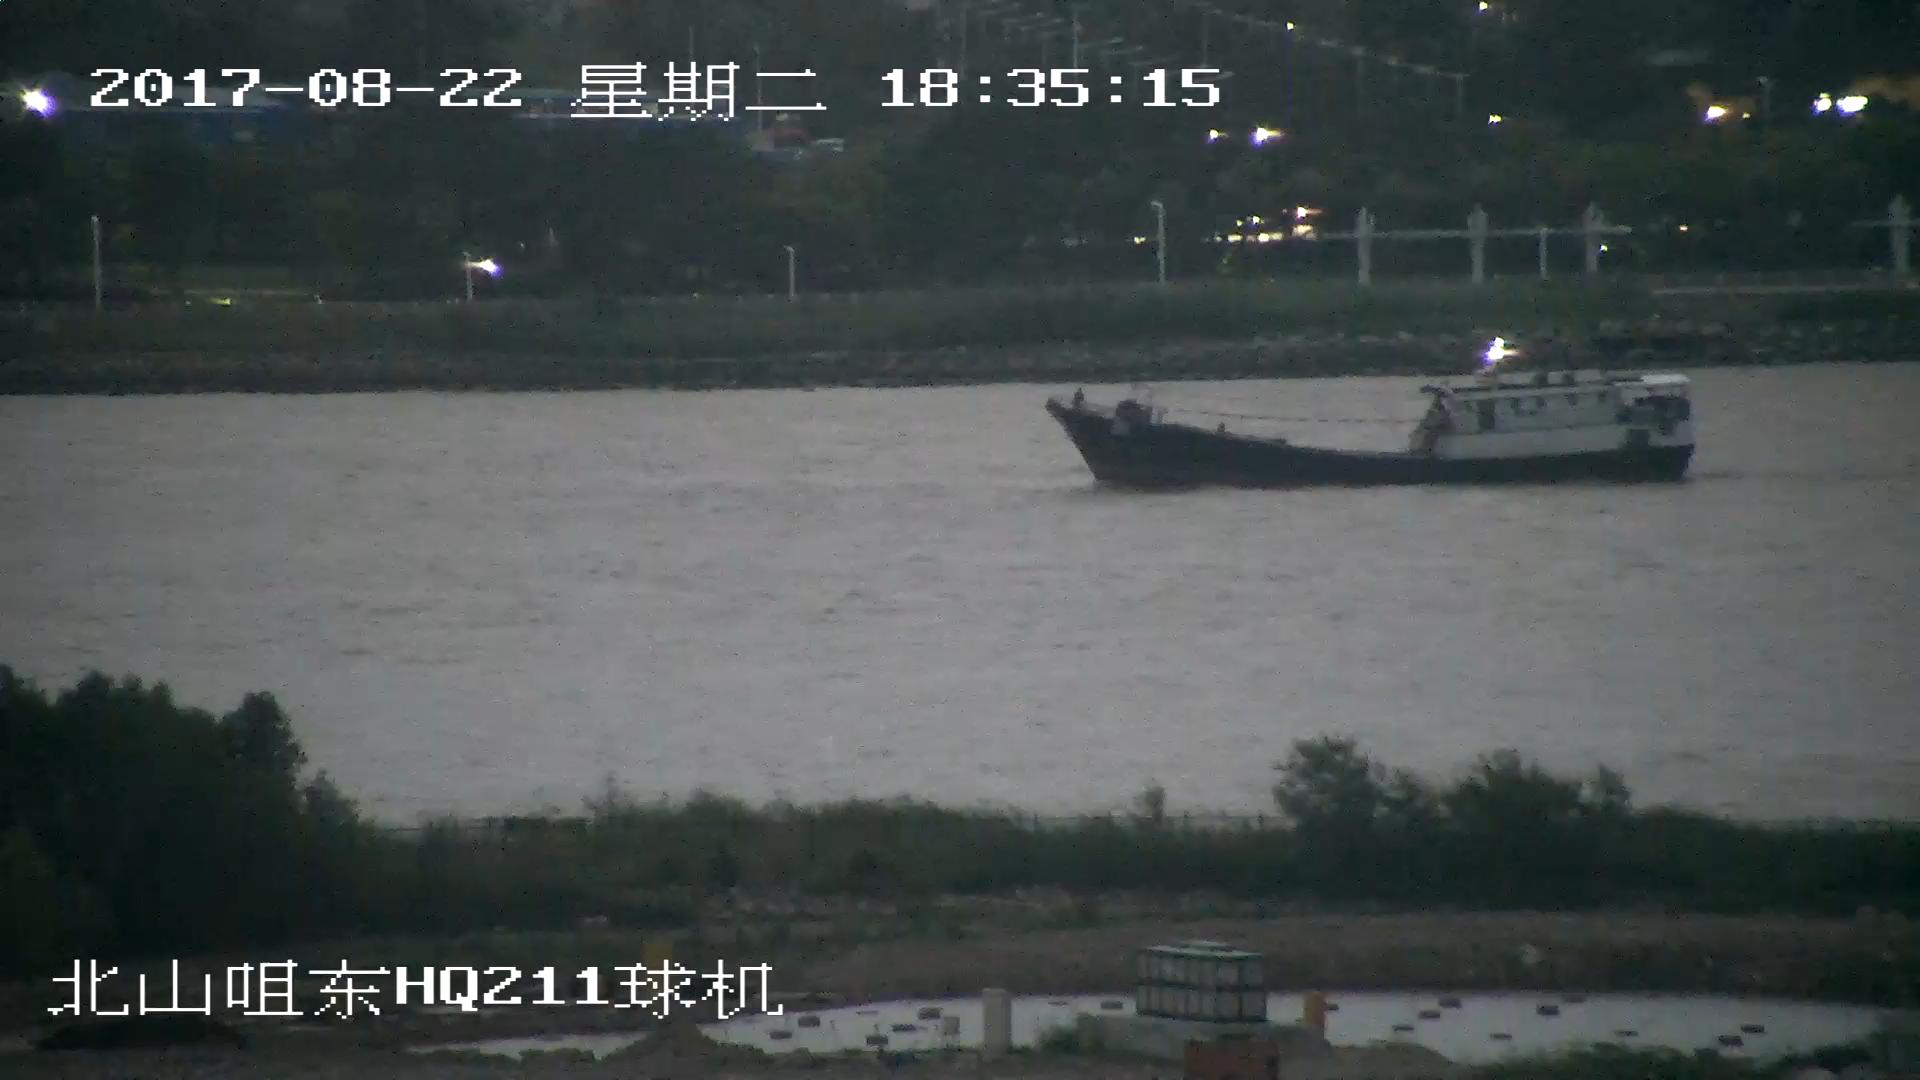fishing boat: (1042, 348, 1694, 493)
